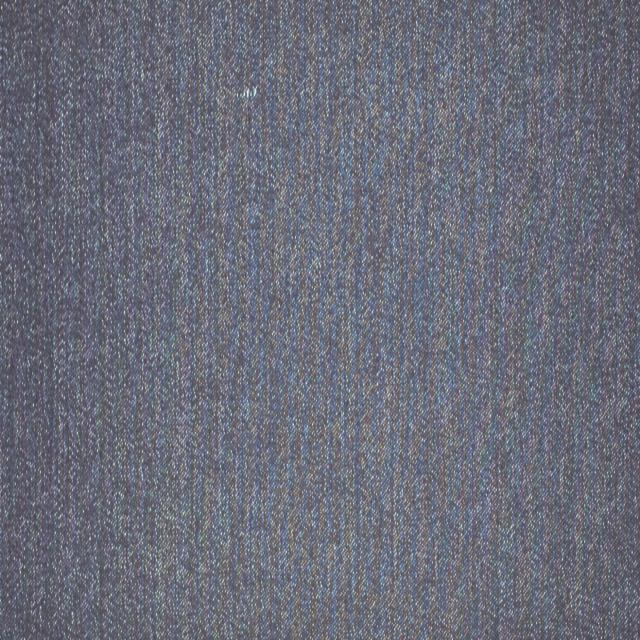Knot: (237, 85, 258, 99)
